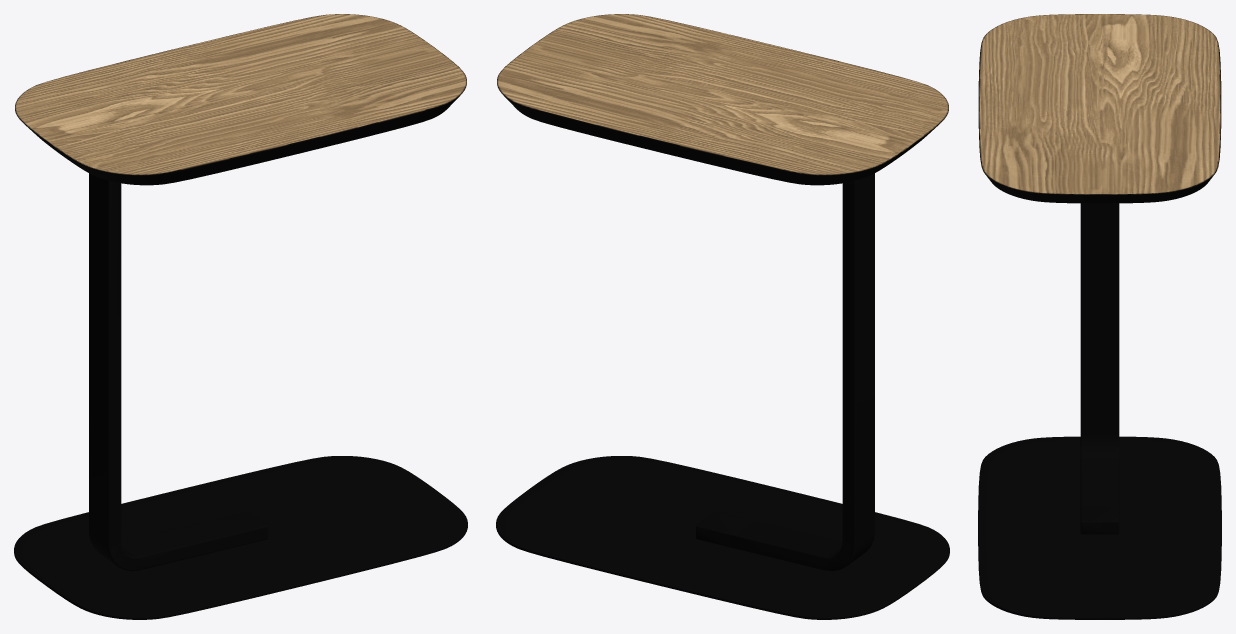
Rendered from Relate Side Table.dae.
3 views of the same model, side by side, from view 1: azimuth 30°, elevation 25°; view 2: azimuth 150°, elevation 25°; view 3: azimuth 270°, elevation 25° (orthographic). The views are drawn at different scales.
Visible parts, largest first — view 1: Relate Side Table; view 2: Relate Side Table; view 3: Relate Side Table.
Part boxes in pixels (x1=…): Relate Side Table: x1=14, y1=14, x2=467, y2=619; Relate Side Table: x1=496, y1=14, x2=949, y2=619; Relate Side Table: x1=978, y1=14, x2=1221, y2=619.
Bounding box in the file's own units: 0.5529 × 0.3143 × 0.605.
Materials: 1 (1 with a texture image).
